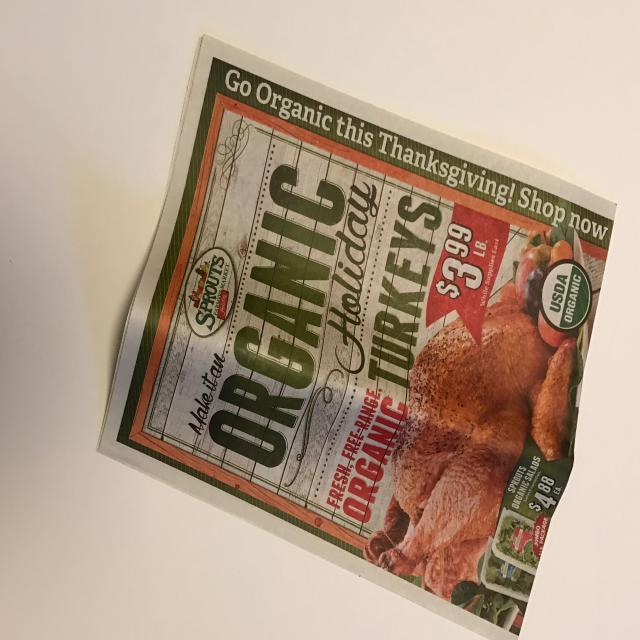Paper: (61, 29, 618, 640)
